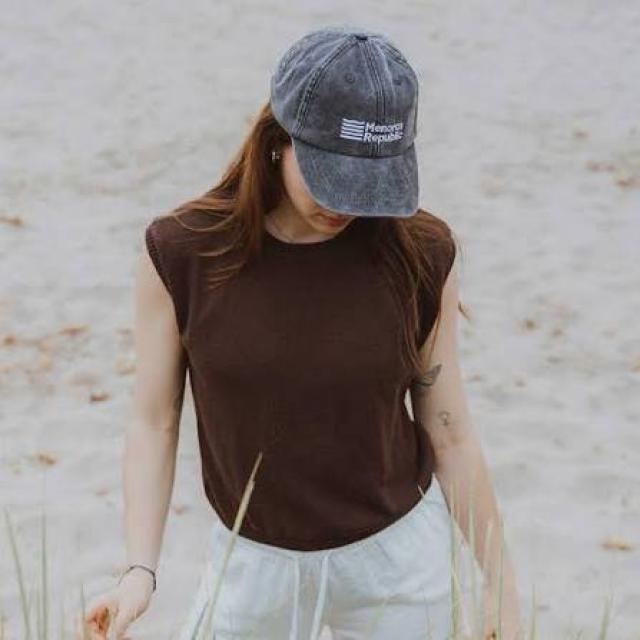Gorra: (261, 24, 424, 222)
